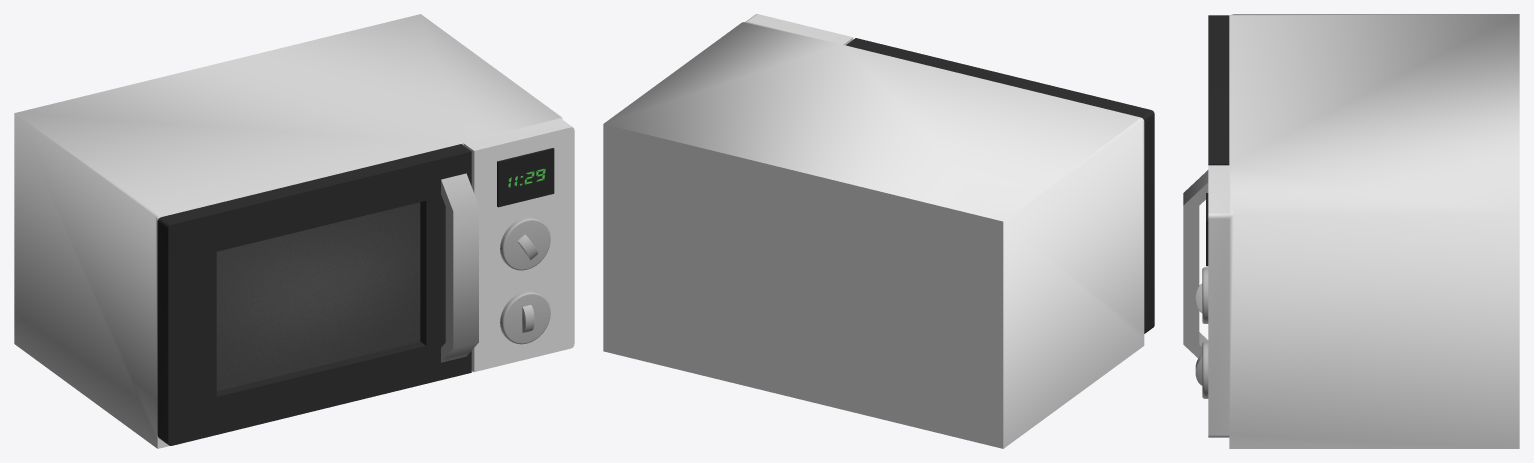
Rendered from microwave_01.fbx.
3 views of the same model, side by side, from view 1: azimuth 30°, elevation 25°; view 2: azimuth 150°, elevation 25°; view 3: azimuth 270°, elevation 25° (orthographic). The views are drawn at different scales.
Parts seen in each view (by area): view 1: 전자레인지; view 2: 전자레인지; view 3: 전자레인지.
Part boxes in pixels (box(x1,y1,x2,y2)): 전자레인지: box(14, 14, 574, 448); 전자레인지: box(603, 14, 1154, 448); 전자레인지: box(1183, 14, 1519, 448).
Bounding box in the file's own units: 83.69 × 59.24 × 45.45.
3 materials, 2 textured.
